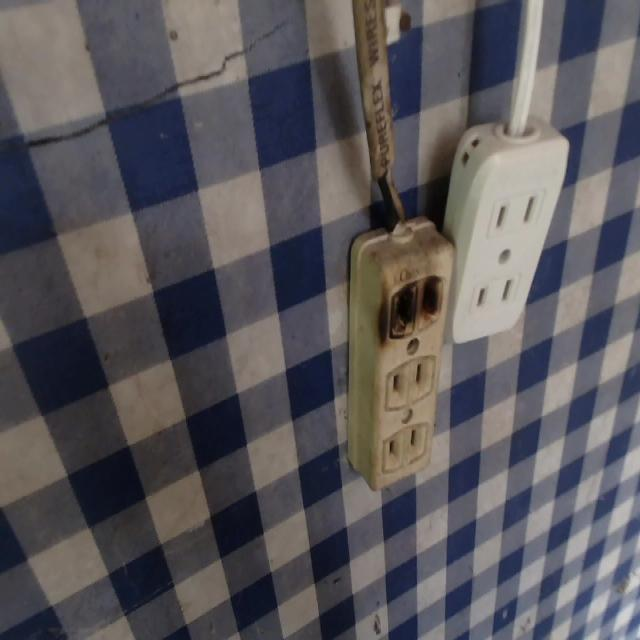-: (381, 267, 448, 341)
